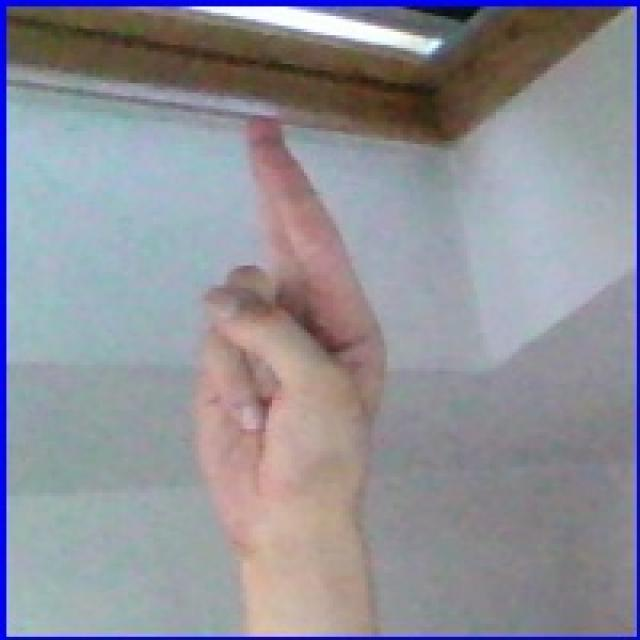Letra-R: (136, 103, 416, 529)
